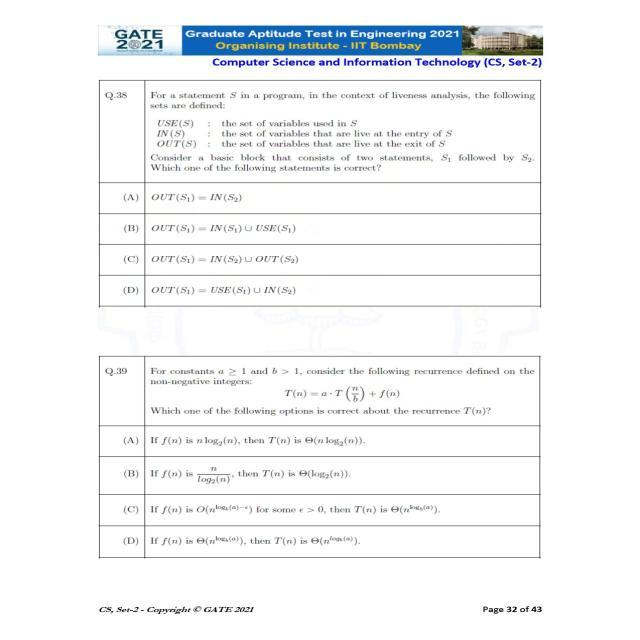Answer_Block: (98, 427, 544, 558), (97, 184, 539, 308)
Question_Answer_Block: (95, 82, 538, 308), (101, 356, 539, 558)
Question_Block: (95, 80, 538, 182), (97, 356, 539, 428)
Question_Paper_Area: (97, 82, 539, 558)
